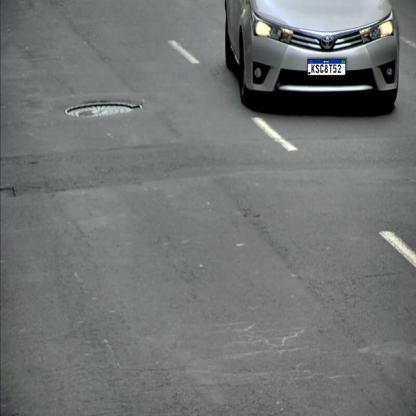PlacaM: (307, 59, 346, 76)
